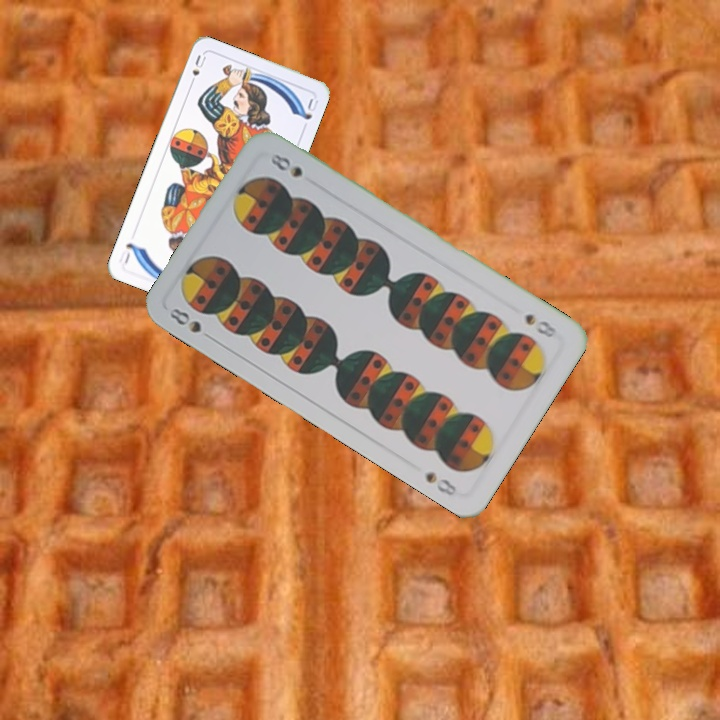S8: (165, 303, 218, 344), (520, 309, 560, 341)
SU: (185, 51, 209, 89)
